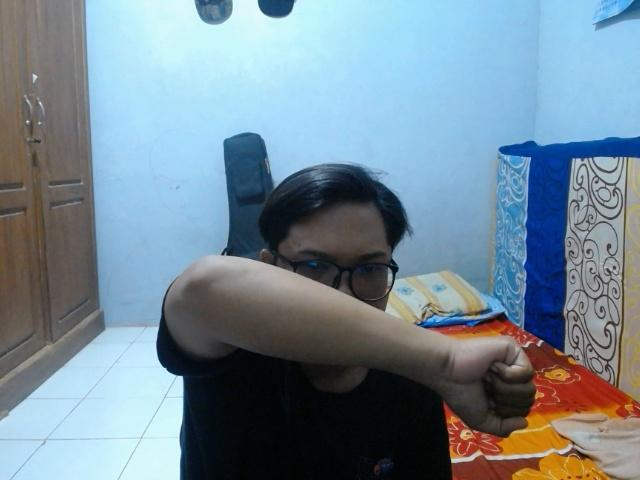Grab: (438, 331, 538, 439)
